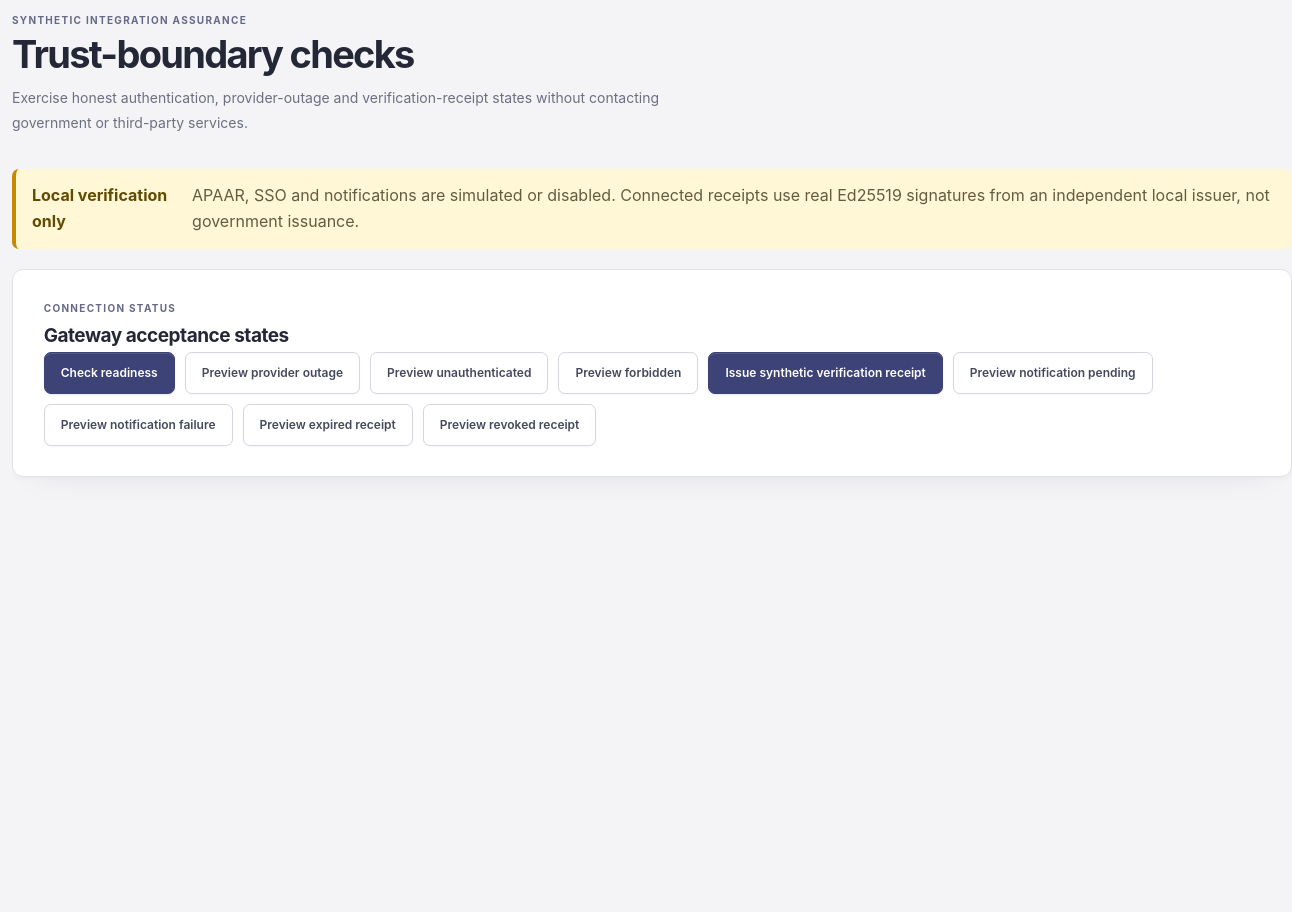
Test: IntegrationWorkspace › shows honest readiness and disabled external dependencies
Click the button "Check readiness": (109, 373) [44,352,175,394]
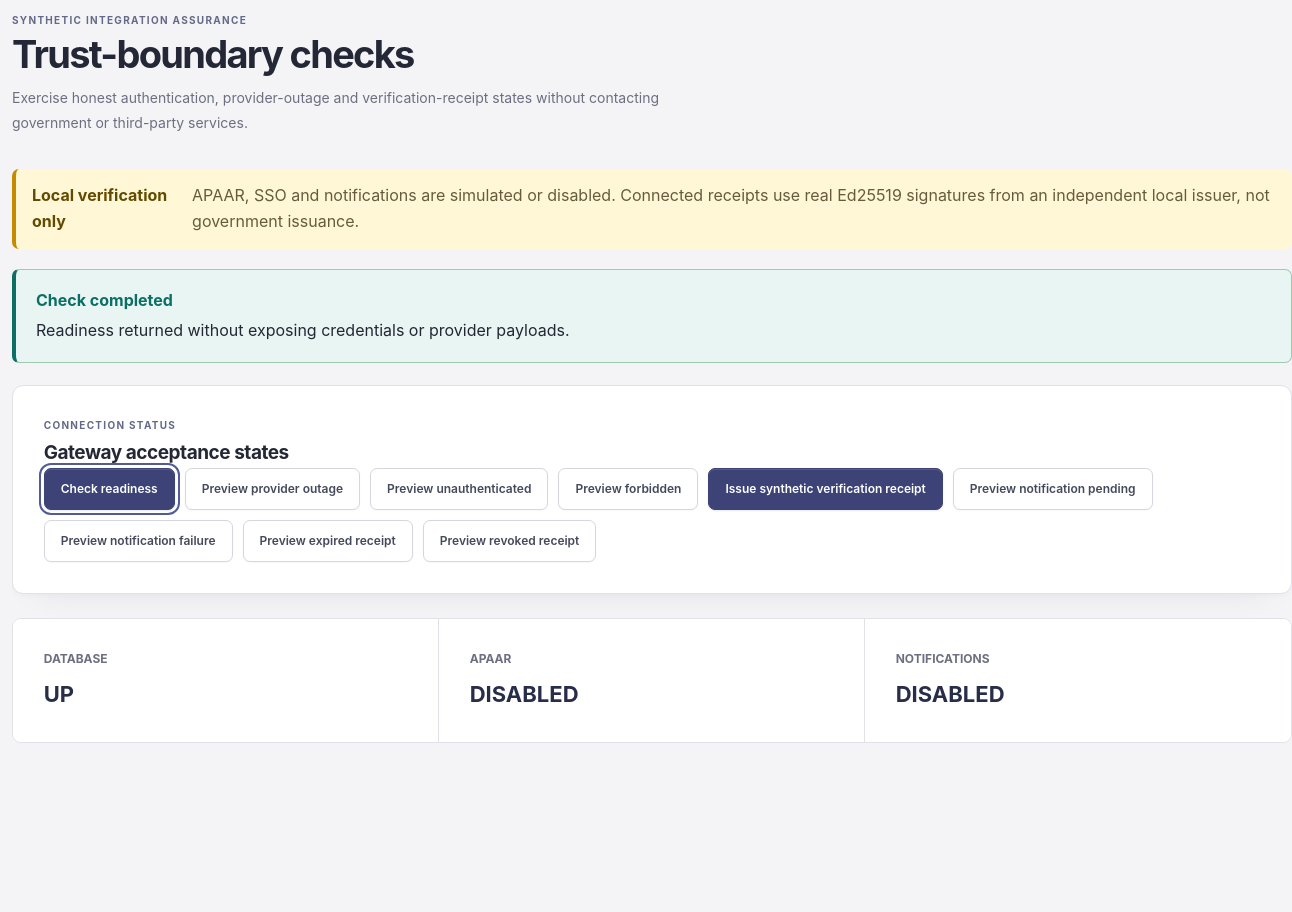
Now the element named "Dependency readiness" reads "database UP apaar DISABLED notifications DISABLED", box [12,618,1291,744]
